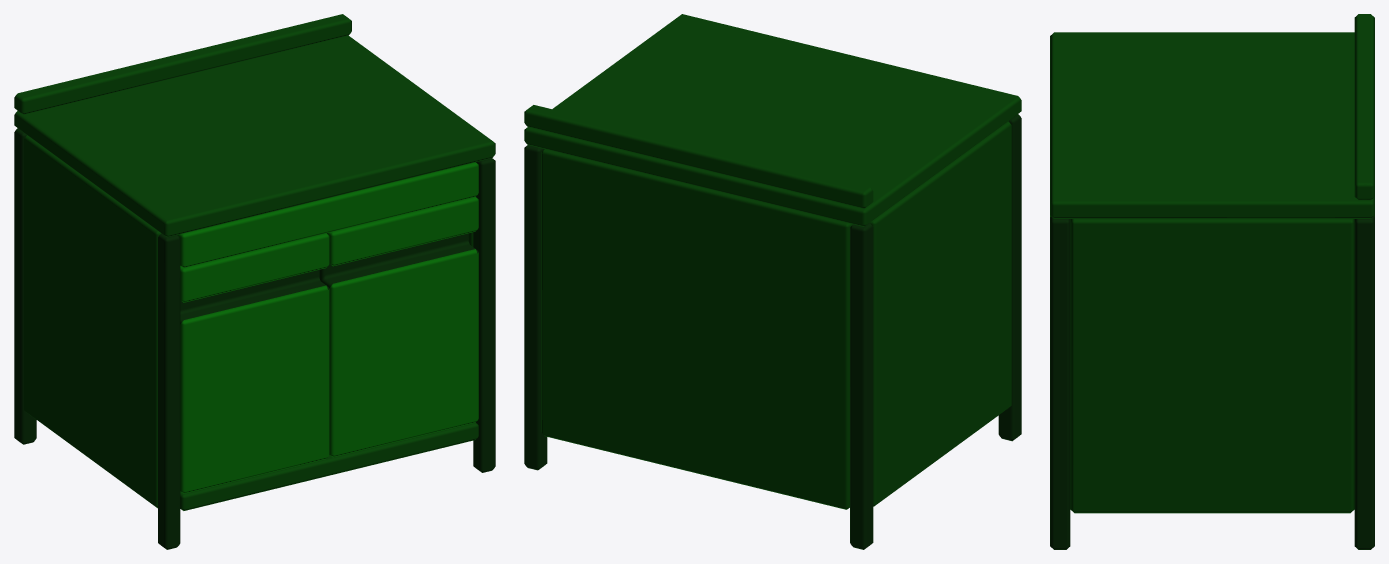
3 views of the same model, side by side, from view 1: azimuth 30°, elevation 25°; view 2: azimuth 150°, elevation 25°; view 3: azimuth 270°, elevation 25° (orthographic). The views are drawn at different scales.
Parts seen in each view (by area): view 1: Plane.604; view 2: Plane.604; view 3: Plane.604.
Part boxes in pixels (left/top/right/bottom): Plane.604: left=14, top=14, right=495, bottom=549; Plane.604: left=524, top=14, right=1021, bottom=549; Plane.604: left=1050, top=14, right=1374, bottom=549.
Bounding box in the file's own units: 1 × 1 × 0.8.
